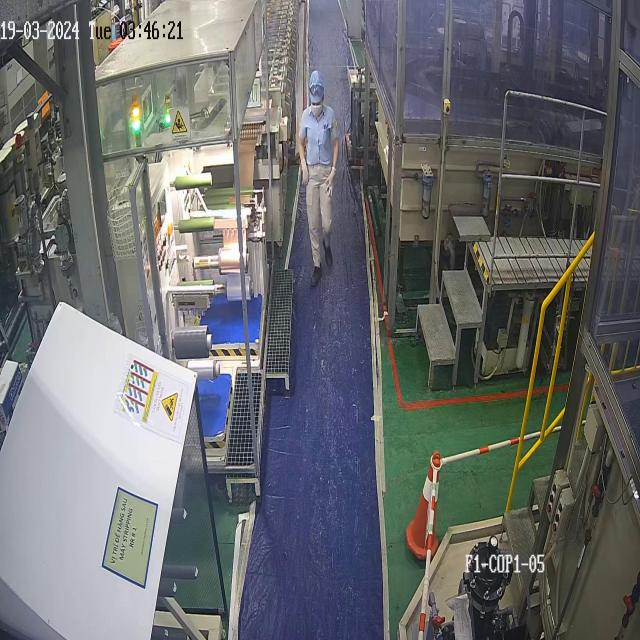Person: (298, 70, 339, 287)
